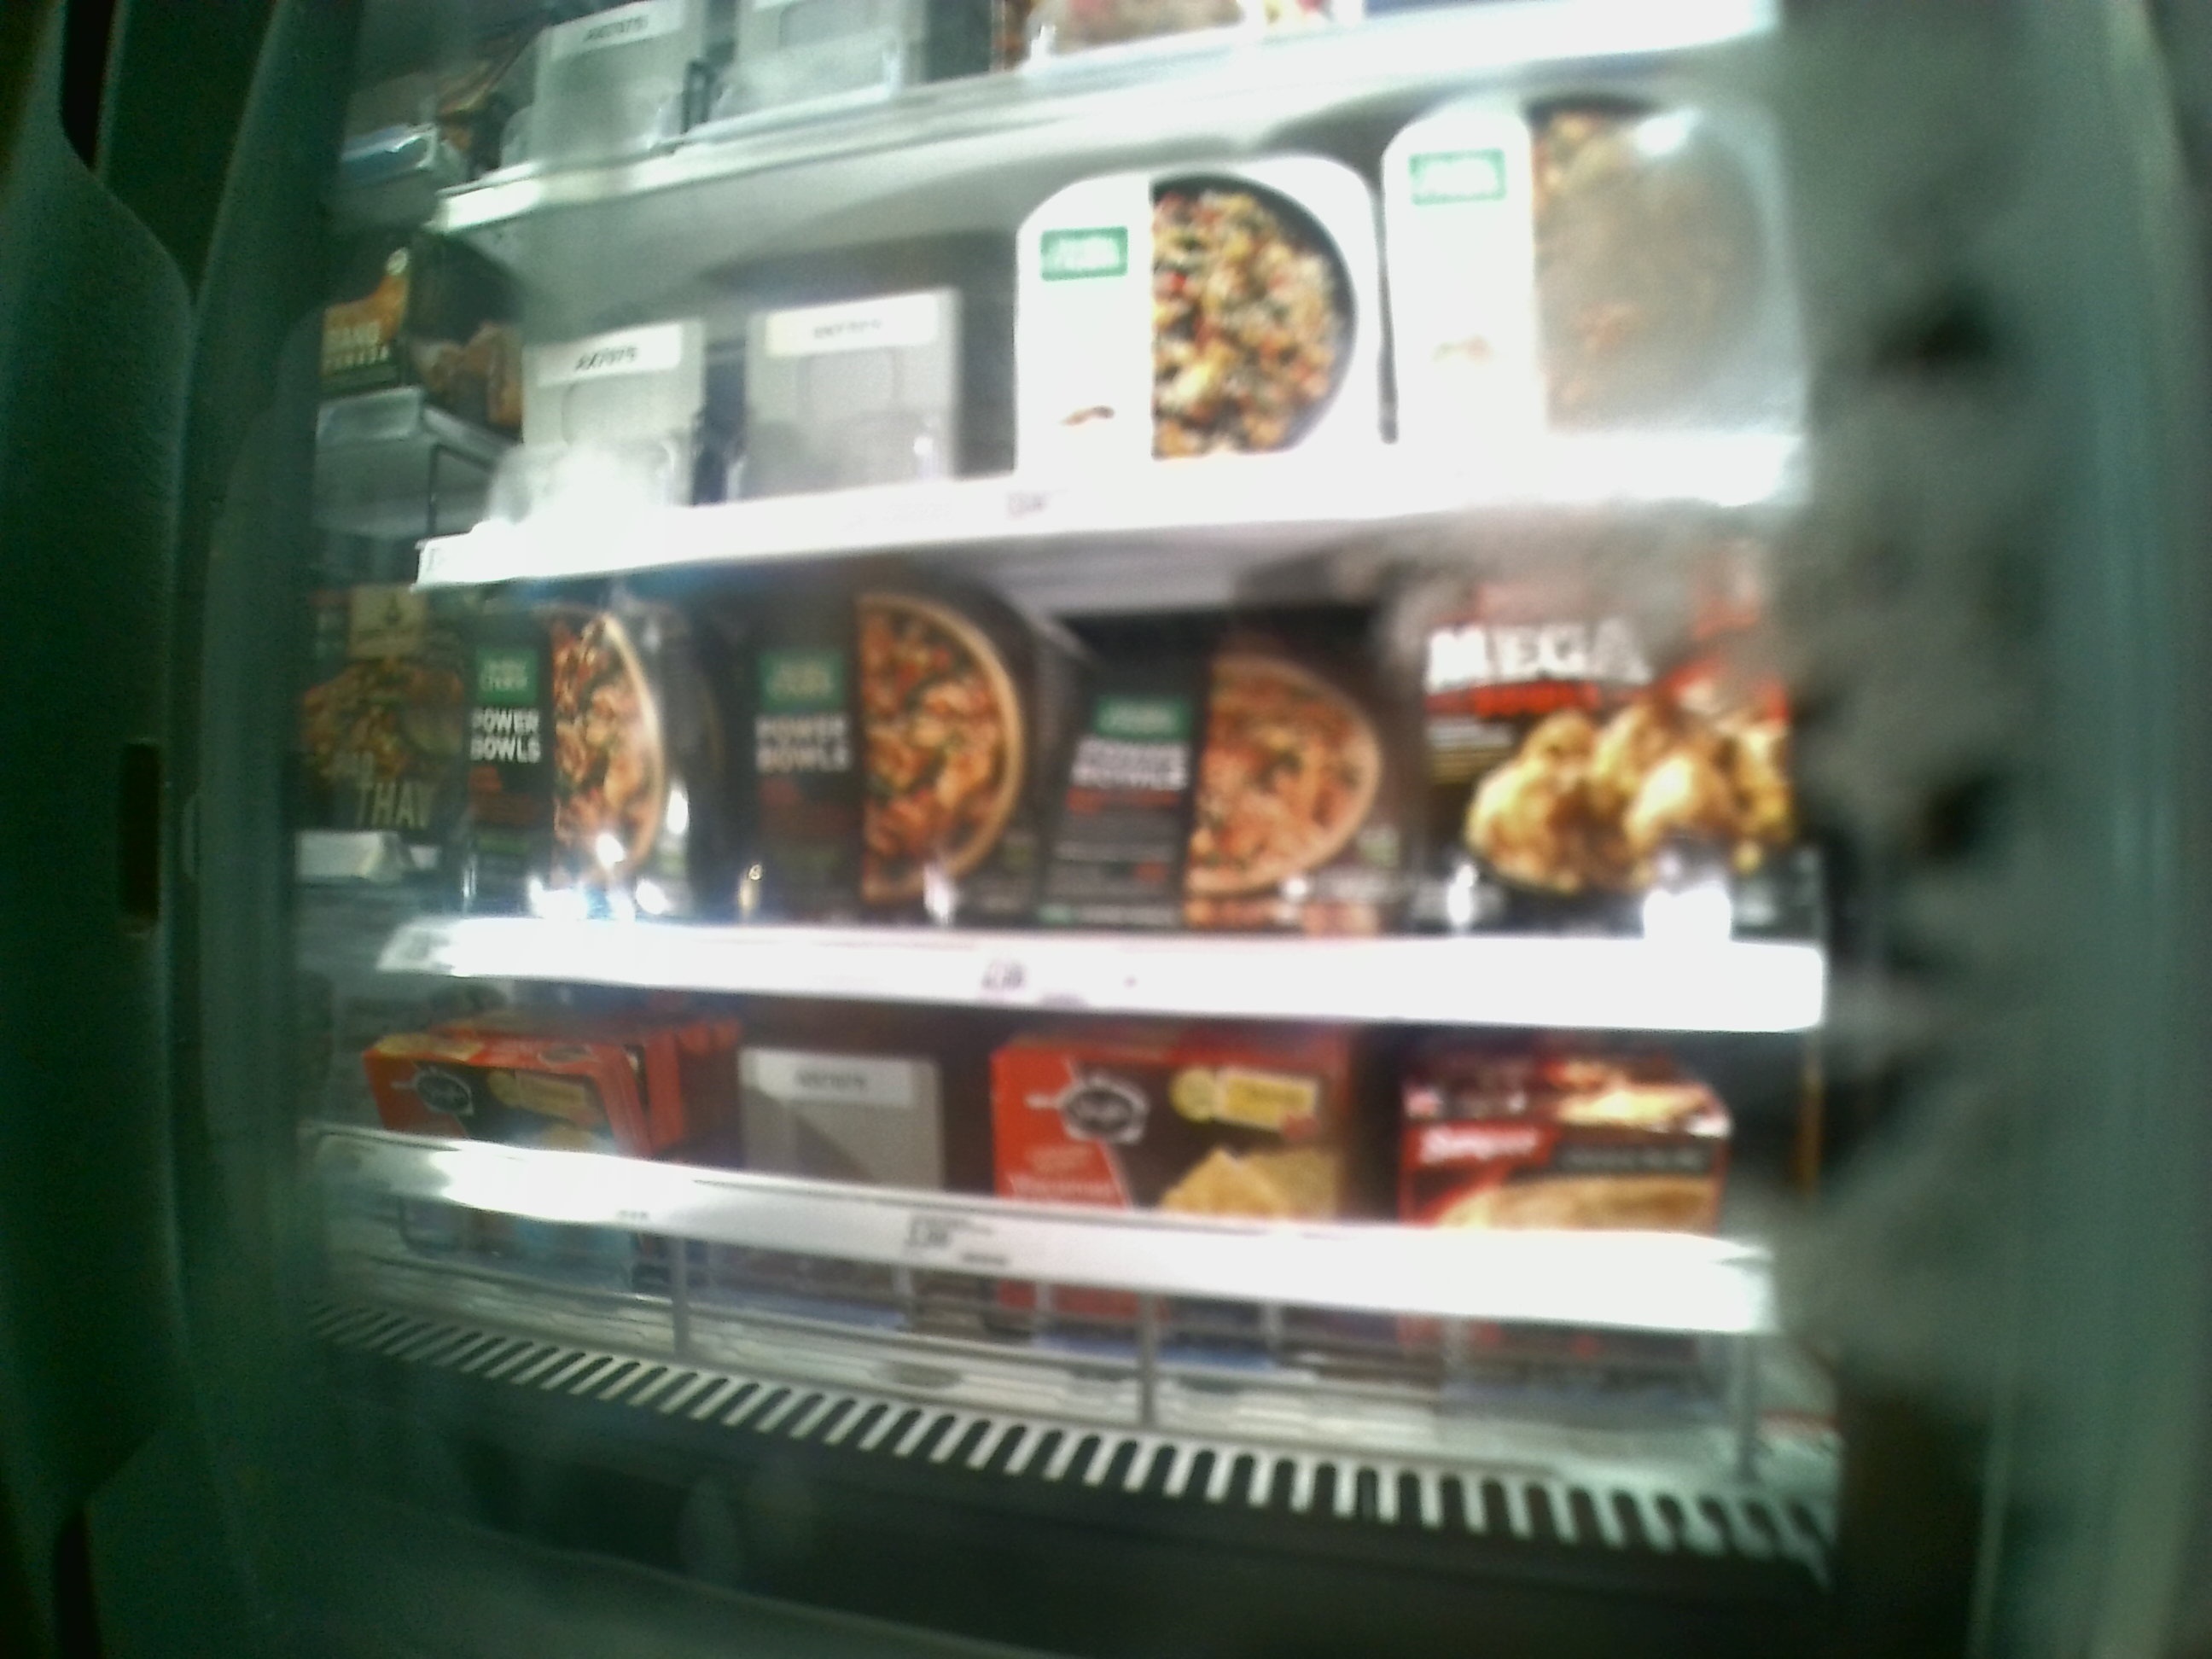Shelf: (347, 983, 1815, 1504), (394, 516, 1825, 1028)
